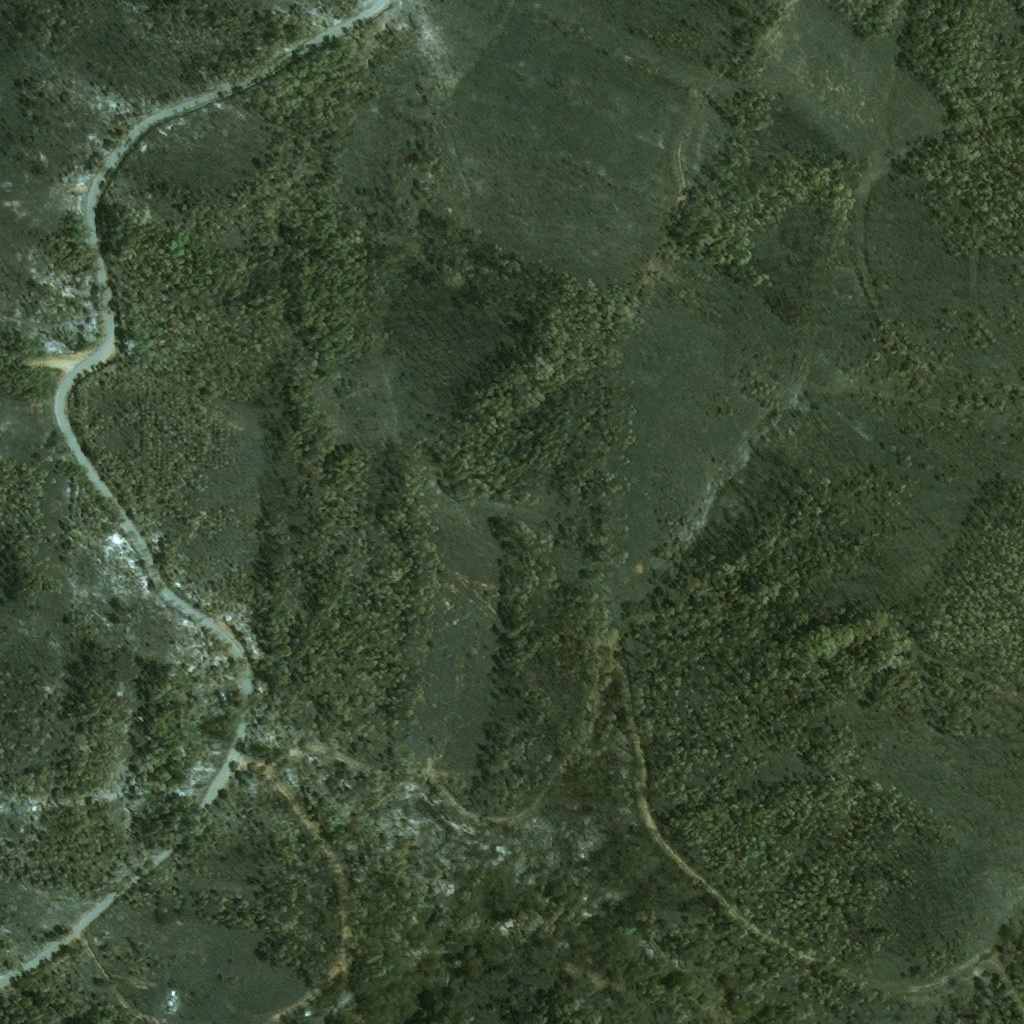3 destroyed: (167, 996, 179, 1011)
